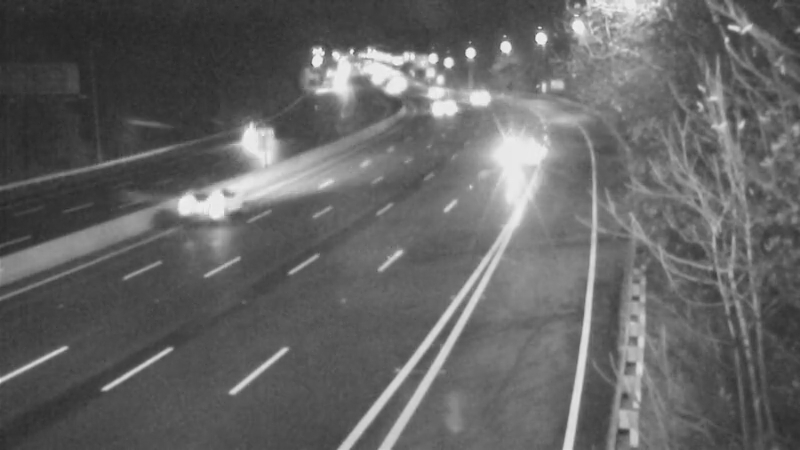vehicle: (479, 115, 559, 195), (160, 165, 240, 245), (413, 66, 463, 116), (450, 75, 500, 125), (415, 87, 465, 137), (234, 114, 284, 164)
